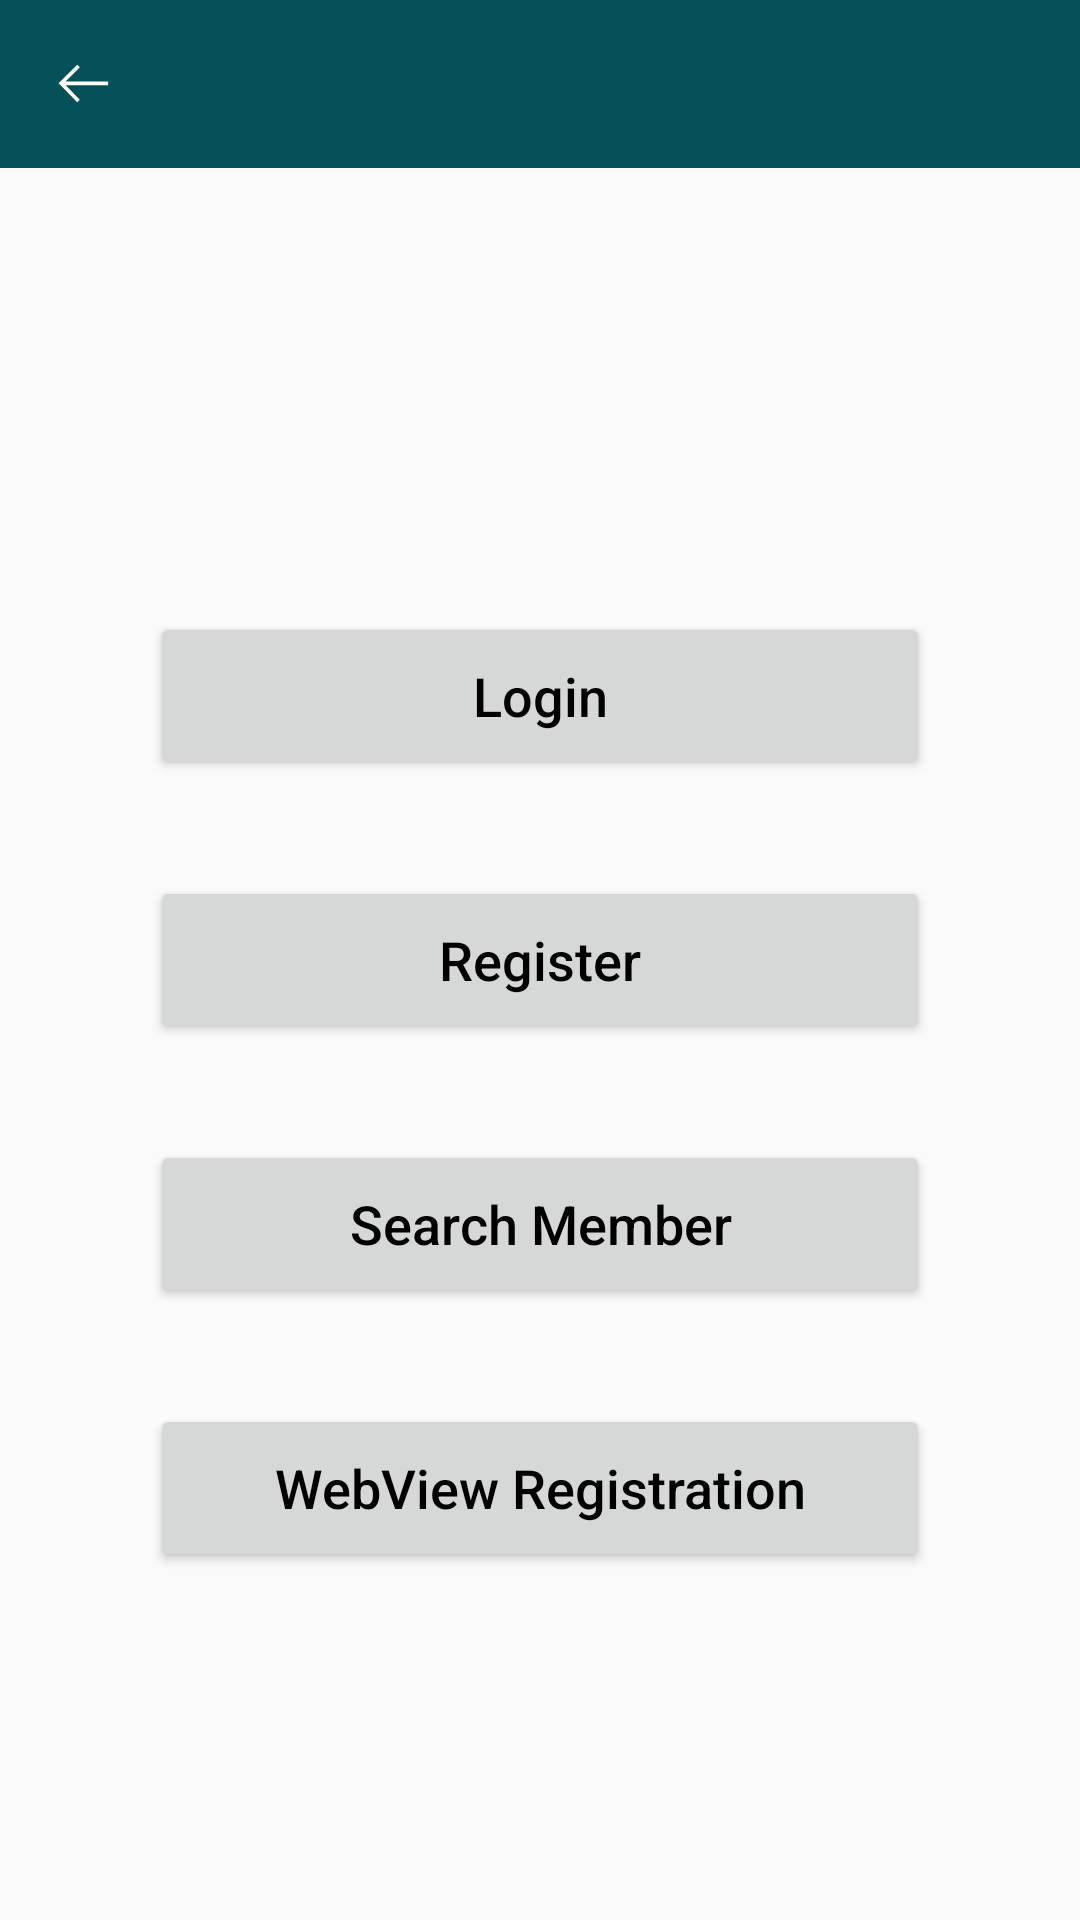

Locate icon controls on the screen. Image size 1080w x 1920h, boxes as {"x1": x1, "y1": y1, "x2": x2, "y2": y2}.
back: {"x1": 58, "y1": 65, "x2": 108, "y2": 102}
